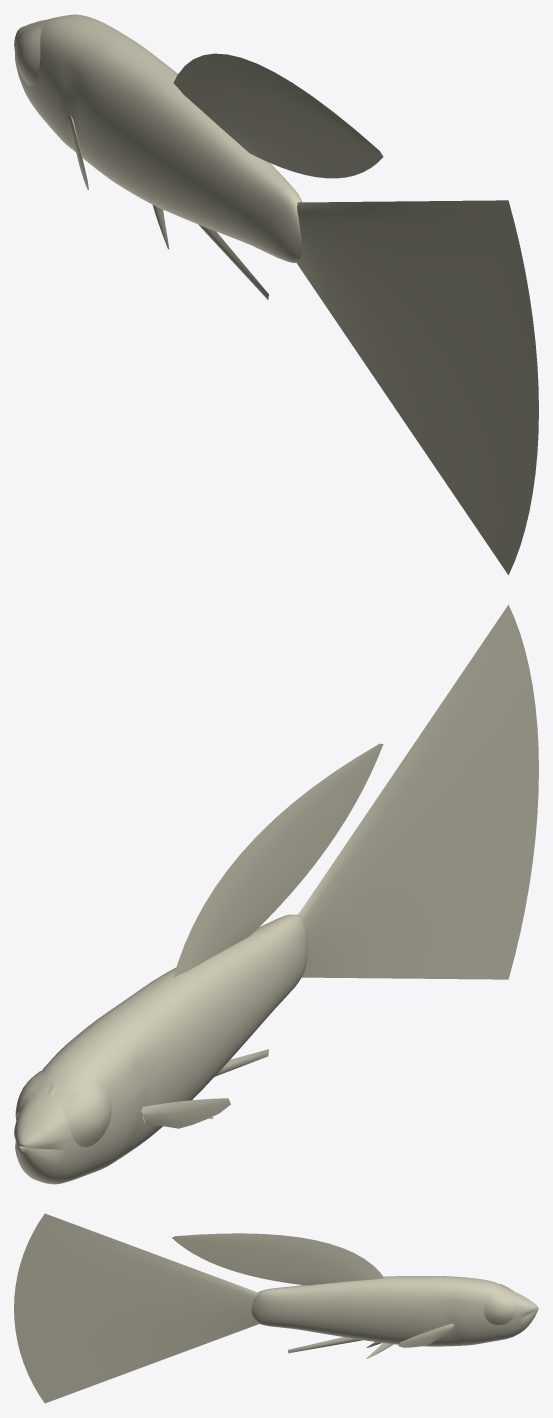
Rendered from guppy_male.glb.
3 renders of one model, top to bottom at view 1: azimuth 30°, elevation 25°; view 2: azimuth 150°, elevation 25°; view 3: azimuth 270°, elevation 25°, orthographic. The views are drawn at different scales.
Visible parts, largest first — view 1: guppy_male; view 2: guppy_male; view 3: guppy_male.
Part boxes in pixels (left/top/right/bottom): guppy_male: left=14, top=14, right=538, bottom=574; guppy_male: left=14, top=605, right=538, bottom=1184; guppy_male: left=14, top=1213, right=538, bottom=1403.
Bounding box in the file's own units: 0.00631 × 0.0159 × 0.0399.
